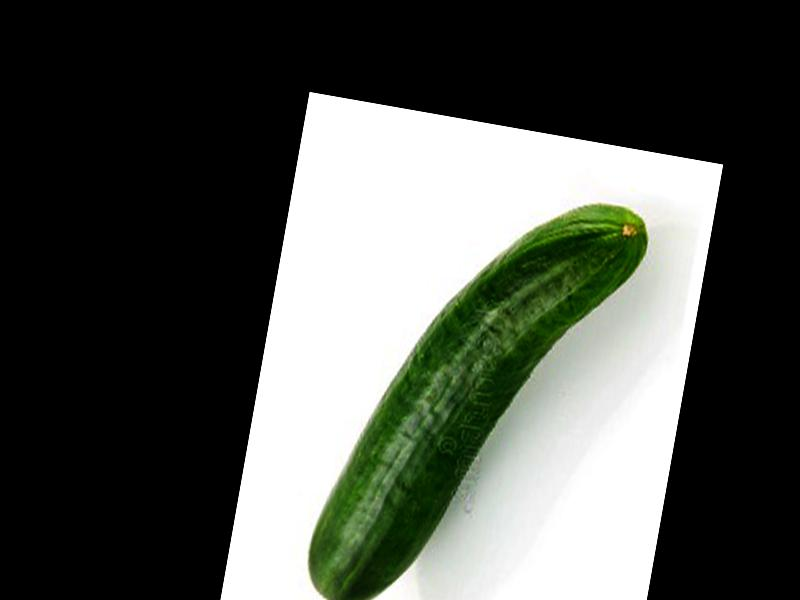Cucumber: (301, 164, 653, 600)
